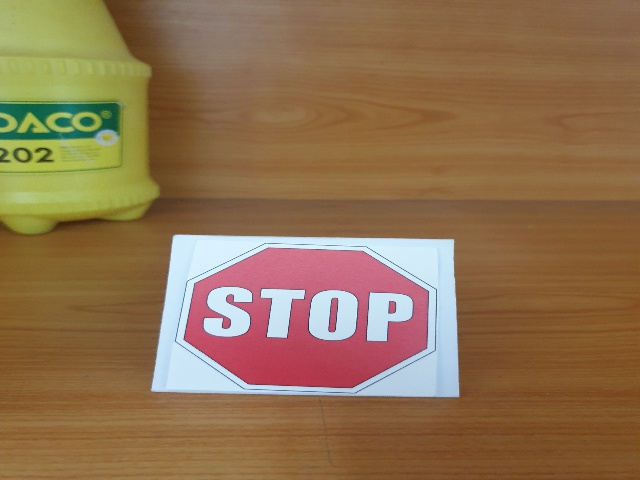Stop: (177, 244, 435, 392)
